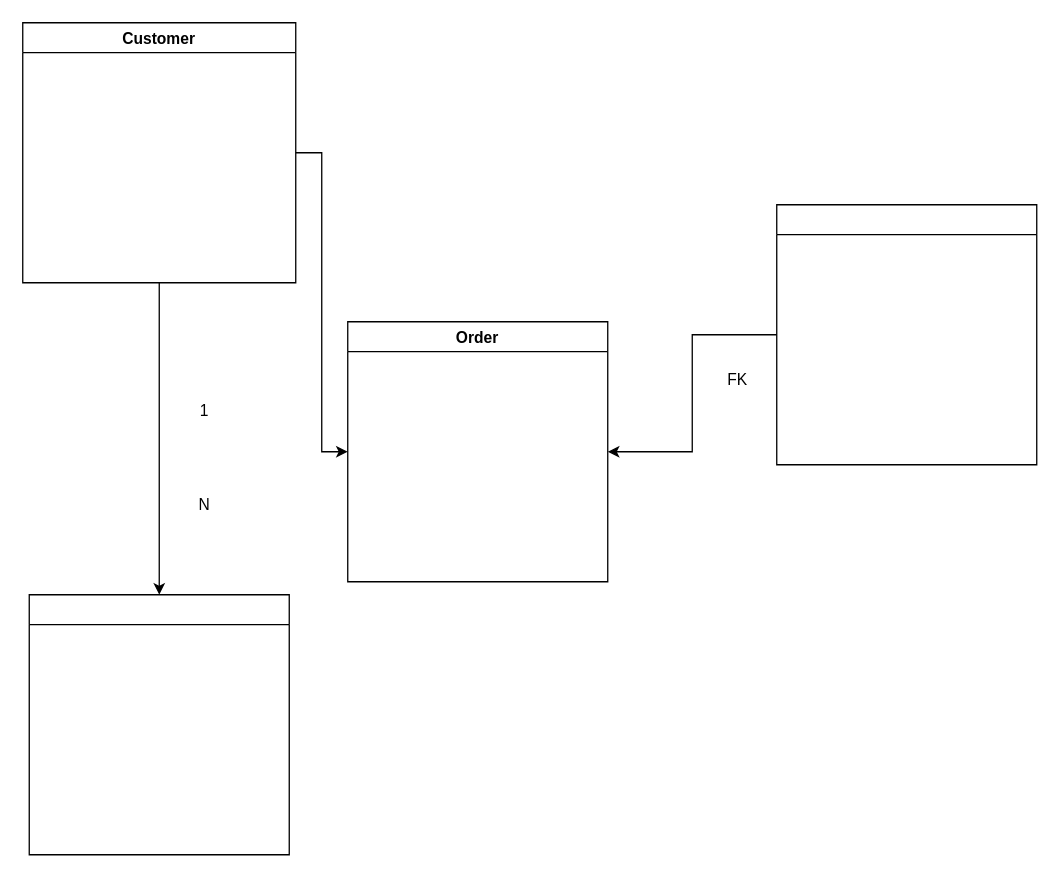
Image size: 1060x877. Some labels were removed from this diagram. Each missing label, with the centre of its shape:
Profile: the point at 158,724
Vehicle: the point at 906,334
